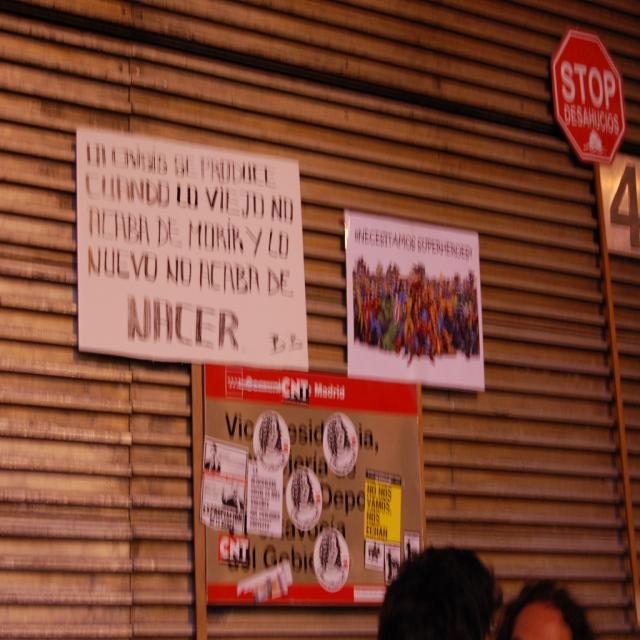Stop-sign: (550, 25, 628, 166)
